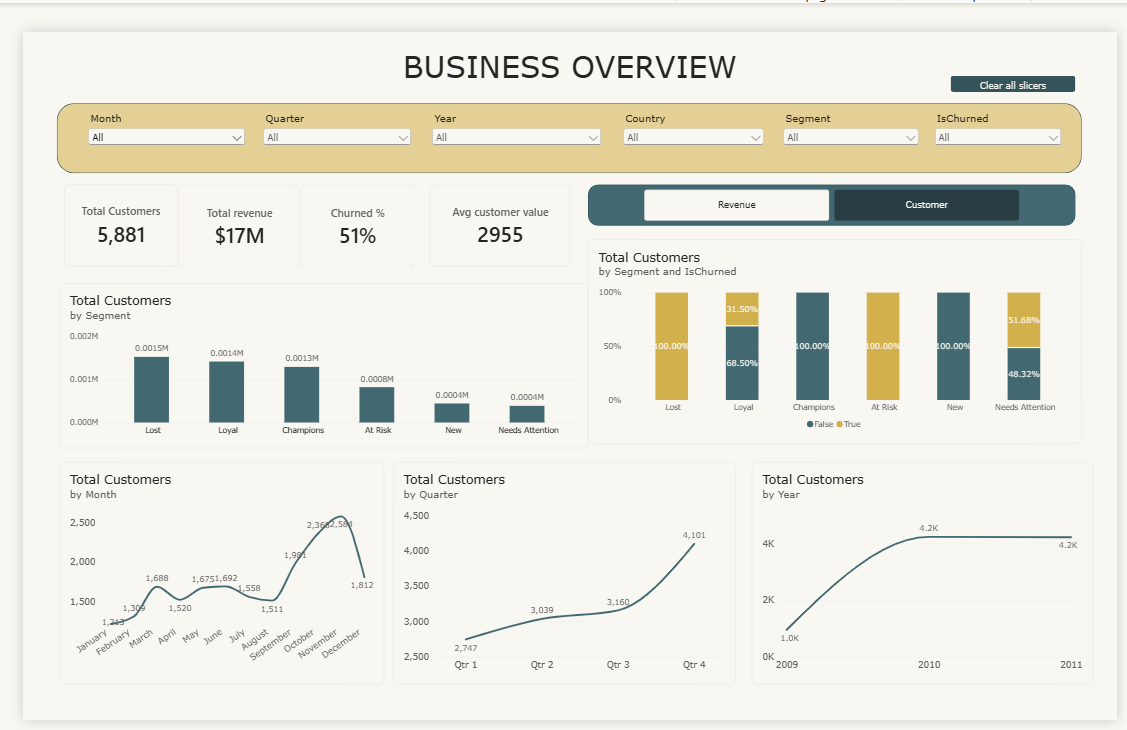

This screenshot's page, from the dashboard's own definition file:
{"tool":"powerbi","page":{"name":"OVERVIEW","canvas":[1750,1100],"ordinal":0},"visuals":[{"type":"cardVisual","fields":{"Data":["Sheet1.Total Customers"]},"box":[66,244,182,132],"z":0},{"type":"lineChart","fields":{"Category":["Sheet1.InvoiceDate.Variation.Date Hierarchy.Quarter"],"Y":["Sheet1.Total Customers"]},"box":[592,688,548,356],"z":0,"group":"g1"},{"type":"cardVisual","fields":{"Data":["Sheet1.Total revenue"]},"box":[248,244,194,132],"z":1000},{"type":"lineChart","fields":{"Category":["Sheet1.InvoiceDate.Variation.Date Hierarchy.Month"],"Y":["Sheet1.Total Customers"]},"box":[58,688,520,356],"z":1000,"group":"g1"},{"type":"cardVisual","fields":{"Data":["Sheet1.Churned %"]},"box":[442,244,184,132],"z":2000},{"type":"lineChart","fields":{"Category":["Sheet1.InvoiceDate.Variation.Date Hierarchy.Year"],"Y":["Sheet1.Total Customers"]},"box":[1166,688,546,356],"z":2000,"group":"g1"},{"type":"cardVisual","fields":{"Data":["Sheet1.Avg customer value"]},"box":[650,244,226,132],"z":3000},{"type":"columnChart","fields":{"Category":["Sheet1.Segment"],"Y":["Sheet1.Total Customers"]},"box":[58,402,846,264],"z":3000,"group":"g1"},{"type":"shape","box":[54,114,1640,112],"z":4000},{"type":"hundredPercentStackedColumnChart","fields":{"Category":["Sheet1.Segment"],"Series":["Sheet1.IsChurned"],"Y":["Sheet1.Total Customers"]},"box":[904,332,790,326],"z":4000,"group":"g1"},{"type":"shape","box":[904,244,780,66],"z":5000},{"type":"slicer","fields":{"Values":["Sheet1.InvoiceDate.Variation.Date Hierarchy.Quarter"]},"box":[380,128,246,84],"z":6000},{"type":"slicer","fields":{"Values":["Sheet1.InvoiceDate.Variation.Date Hierarchy.Month"]},"box":[100,128,260,84],"z":7000},{"type":"slicer","fields":{"Values":["Sheet1.InvoiceDate.Variation.Date Hierarchy.Year"]},"box":[650,128,280,84],"z":8000},{"type":"slicer","fields":{"Values":["Sheet1.Country"]},"box":[956,128,234,84],"z":9000},{"type":"slicer","fields":{"Values":["Sheet1.Segment"]},"box":[1212,128,226,60],"z":10000},{"type":"slicer","fields":{"Values":["Sheet1.IsChurned"]},"box":[1454,128,212,60],"z":11000},{"type":"group","id":"g1","title":"Customer","box":[58,332,1654,712],"z":12000},{"type":"bookmarkNavigator","box":[994,252,600,50],"z":14000},{"type":"textbox","box":[352,26,1046,70],"z":15000},{"type":"actionButton","box":[1484,70,200,26],"z":16000}]}

Visuals, with their boxes in screenshot pixels (x1, y1, x2, y2), scaled from the page's 1750x1100 canvas onto the 1127x730 screenshot:
cardVisual - Sheet1.Total Customers: locate(43, 162, 160, 250)
lineChart - Sheet1.InvoiceDate.Variation.Date Hierarchy.Quarter x Sheet1.Total Customers: locate(381, 457, 734, 693)
cardVisual - Sheet1.Total revenue: locate(160, 162, 285, 250)
lineChart - Sheet1.InvoiceDate.Variation.Date Hierarchy.Month x Sheet1.Total Customers: locate(37, 457, 372, 693)
cardVisual - Sheet1.Churned %: locate(285, 162, 403, 250)
lineChart - Sheet1.InvoiceDate.Variation.Date Hierarchy.Year x Sheet1.Total Customers: locate(751, 457, 1103, 693)
cardVisual - Sheet1.Avg customer value: locate(419, 162, 564, 250)
columnChart - Sheet1.Segment x Sheet1.Total Customers: locate(37, 267, 582, 442)
shape: locate(35, 76, 1091, 150)
hundredPercentStackedColumnChart - Sheet1.Segment x Sheet1.IsChurned: locate(582, 220, 1091, 437)
shape: locate(582, 162, 1084, 206)
slicer - Sheet1.InvoiceDate.Variation.Date Hierarchy.Quarter: locate(245, 85, 403, 141)
slicer - Sheet1.InvoiceDate.Variation.Date Hierarchy.Month: locate(64, 85, 232, 141)
slicer - Sheet1.InvoiceDate.Variation.Date Hierarchy.Year: locate(419, 85, 599, 141)
slicer - Sheet1.Country: locate(616, 85, 766, 141)
slicer - Sheet1.Segment: locate(781, 85, 926, 125)
slicer - Sheet1.IsChurned: locate(936, 85, 1073, 125)
"Customer" group: locate(37, 220, 1103, 693)
bookmarkNavigator: locate(640, 167, 1027, 200)
textbox: locate(227, 17, 900, 64)
actionButton: locate(956, 46, 1084, 64)
